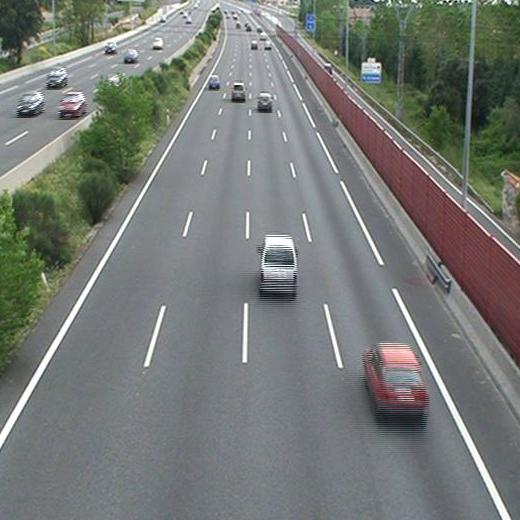car: (365, 346, 428, 411), (260, 236, 297, 291), (231, 83, 245, 100), (258, 93, 272, 109), (208, 75, 221, 88), (264, 39, 271, 49), (251, 41, 258, 49)
